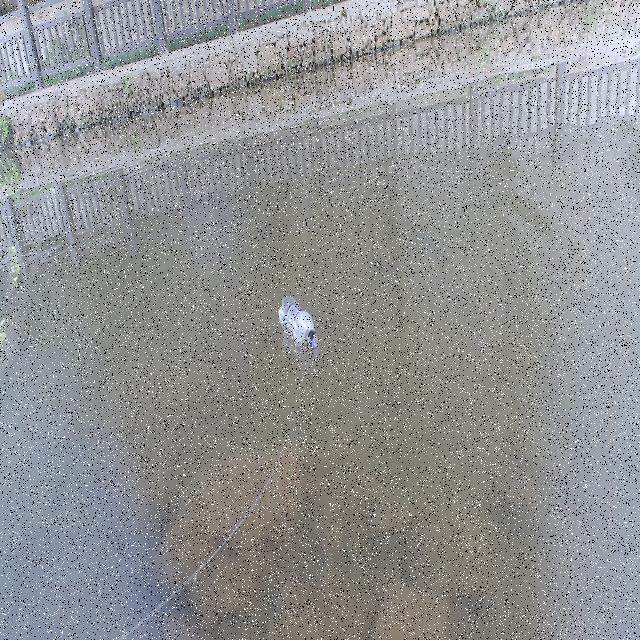Bottle: (275, 288, 319, 351)
